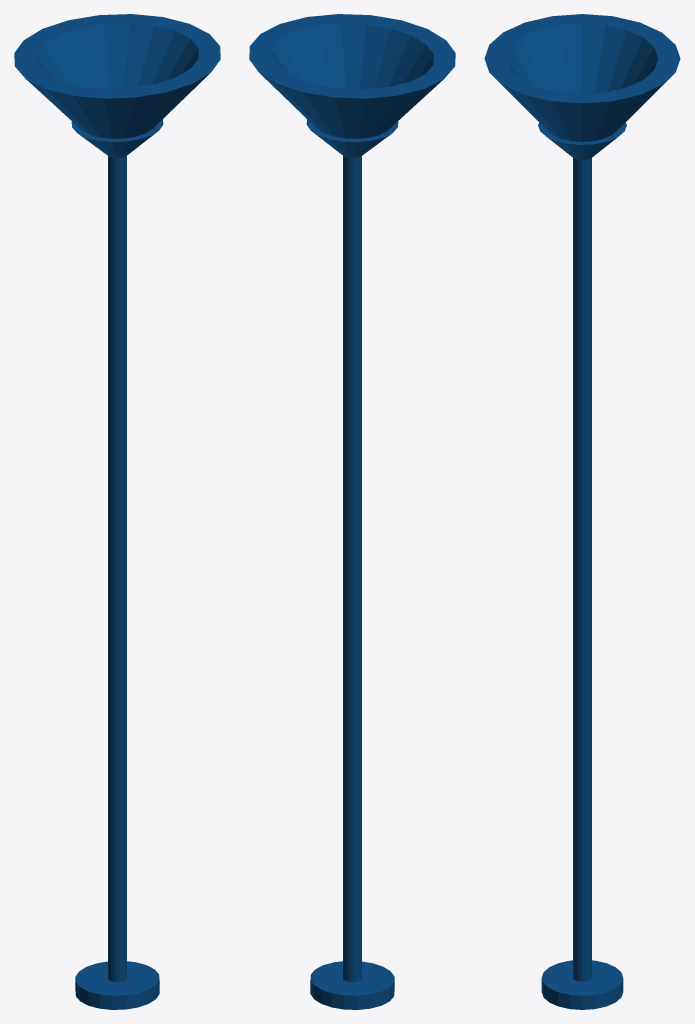
The model's file is Lamp Final.fbx.
The picture shows the model from 3 angles, left to right: view 1: azimuth 30°, elevation 25°; view 2: azimuth 150°, elevation 25°; view 3: azimuth 270°, elevation 25°; orthographic projection.
Parts seen in each view (by area): view 1: Lamp; view 2: Lamp; view 3: Lamp.
Part boxes in pixels (box(x1,y1,x2,y2)): Lamp: box(14, 14, 220, 1009); Lamp: box(249, 14, 455, 1009); Lamp: box(484, 14, 680, 1009).
Size of the model in its own units: 0.991 by 4.82 by 0.9184.
